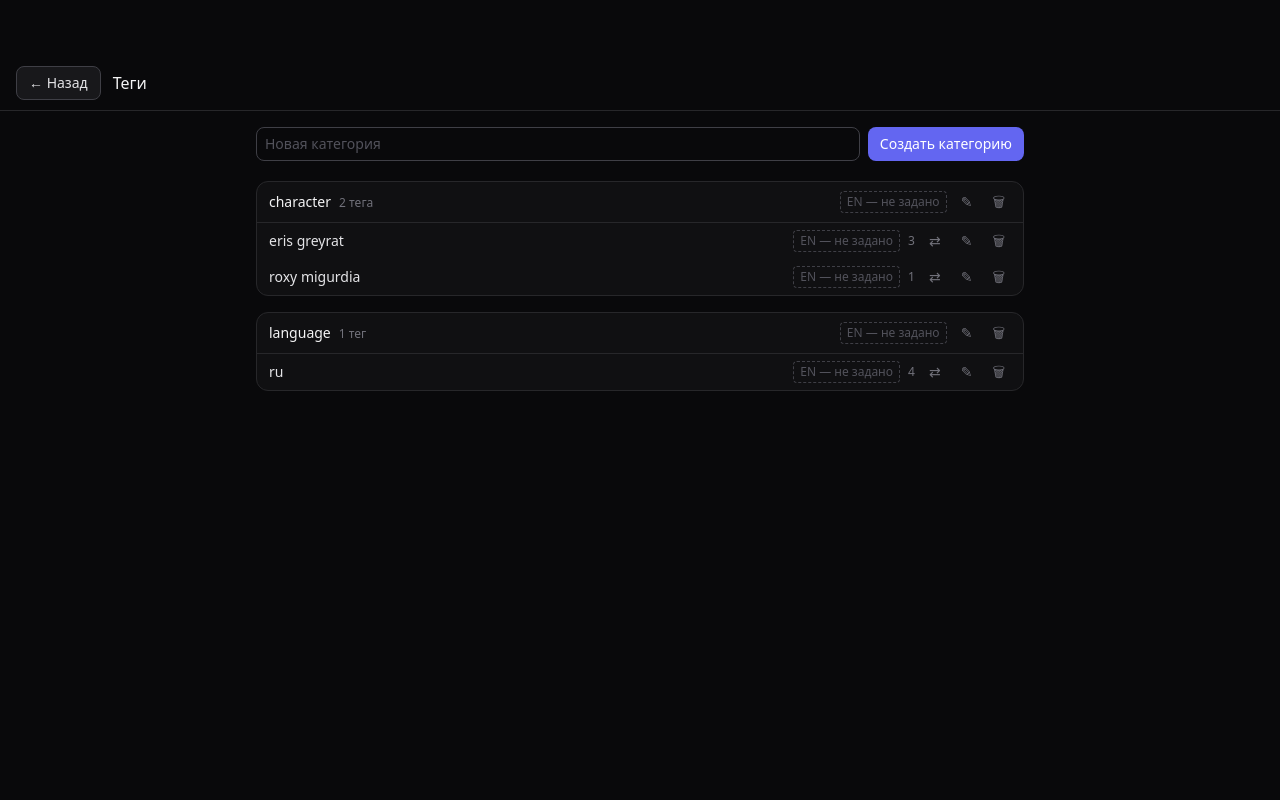
Test case: TagsScreen: категории › переименование: Esc отменяет без запроса, дубль оставляет поле с сообщением
This screenshot has width=1280, height=800.
Expected: the element named "Категория character" is shown, [256,181,1024,296]
Click the button named "Переименовать категорию «character»".
click(966, 202)  # box [955,190,978,214]
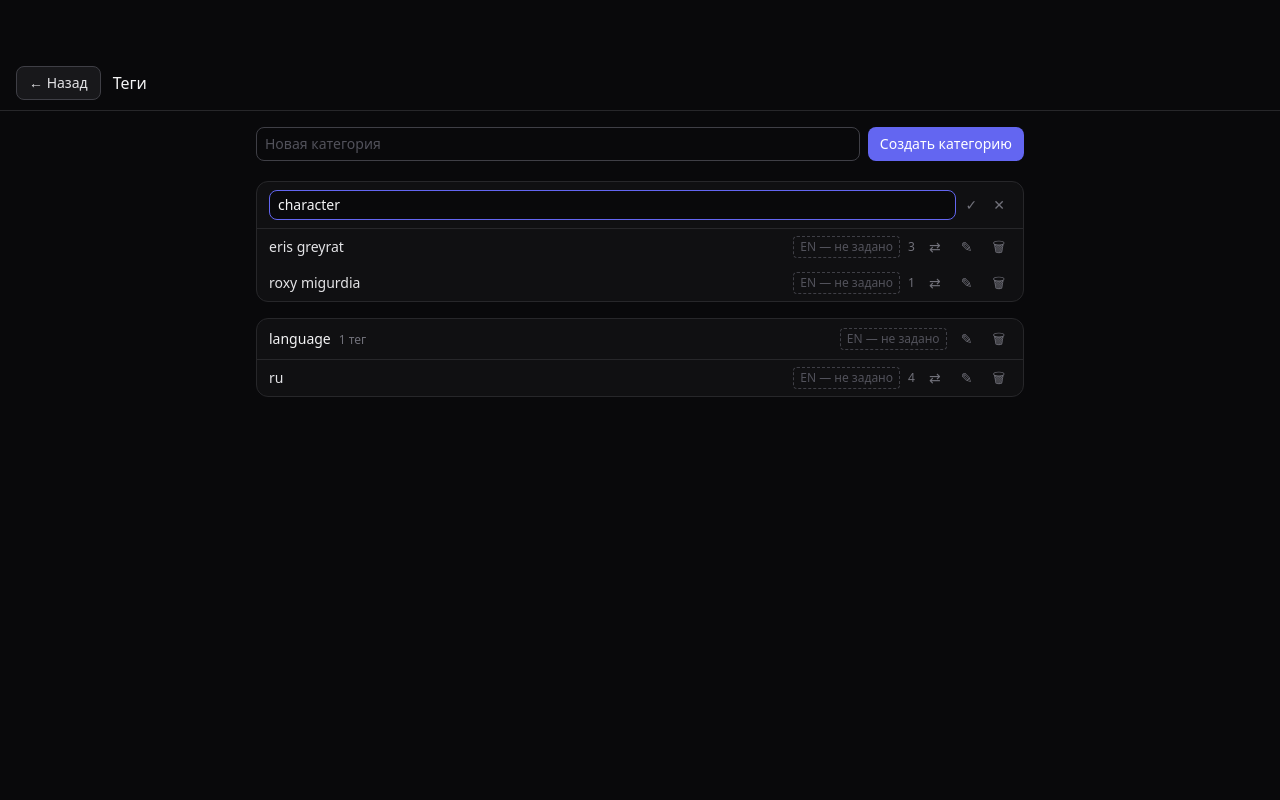
Type "x" into the field named "Новое имя категории".
click(612, 205); type("x")  # box [269,190,956,220]
Then press Escape
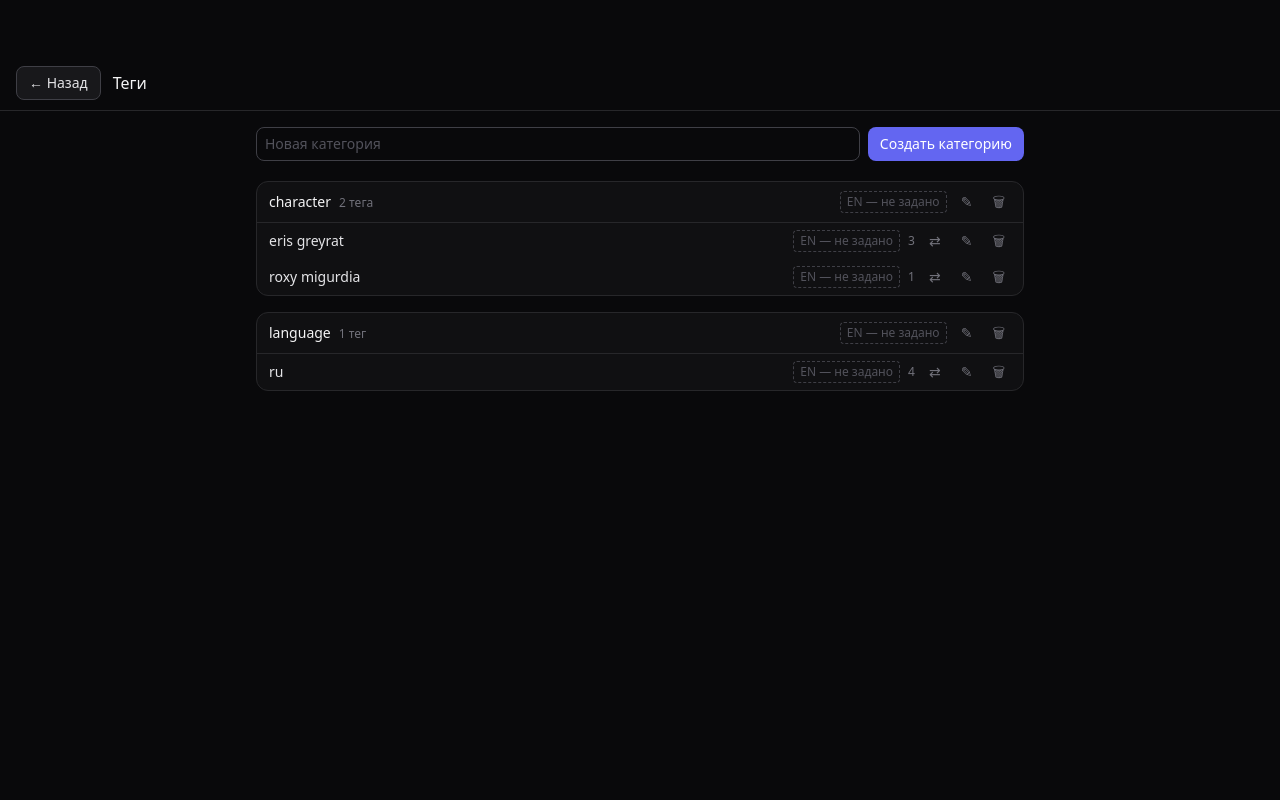
Click the button named "Переименовать категорию «character»".
click(966, 202)  # box [955,190,978,214]
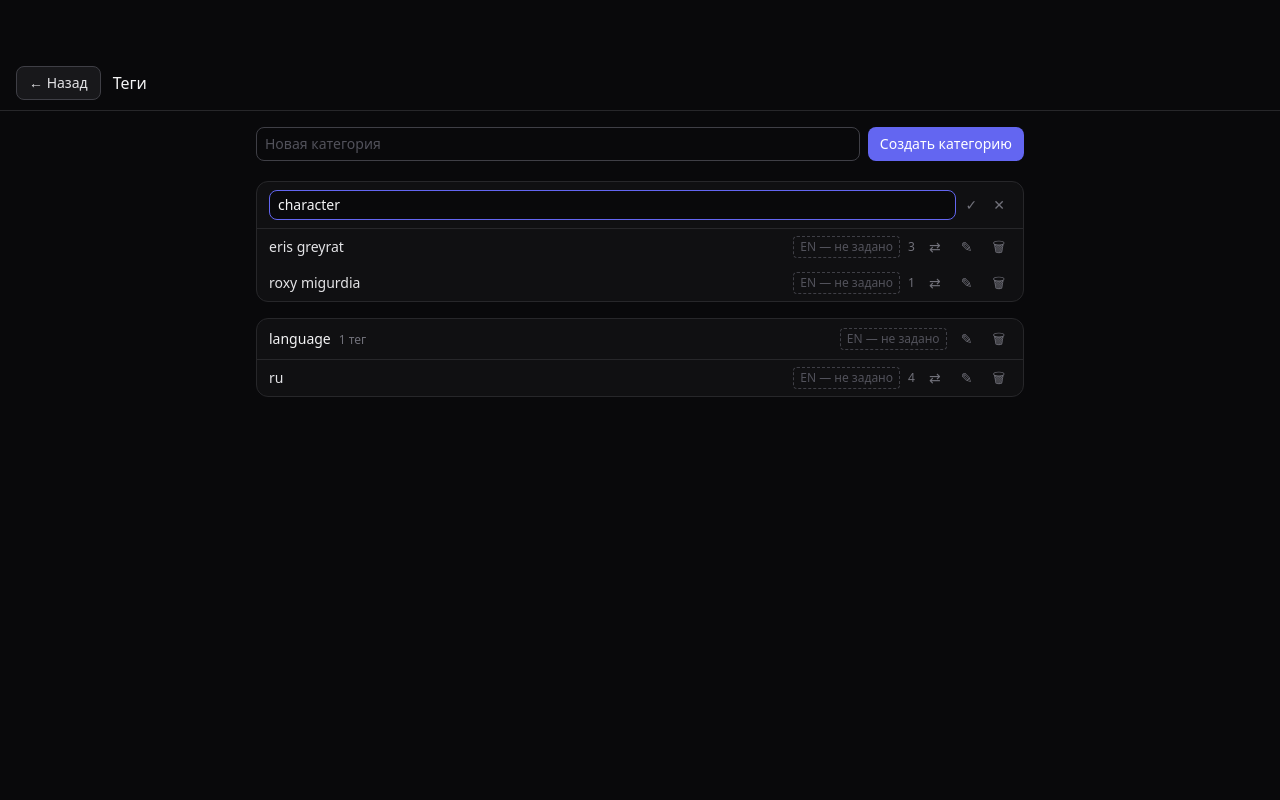
Replace the text in the field named "Новое имя категории" with "language" at (612, 205), box [269,190,956,220]
Then press Enter
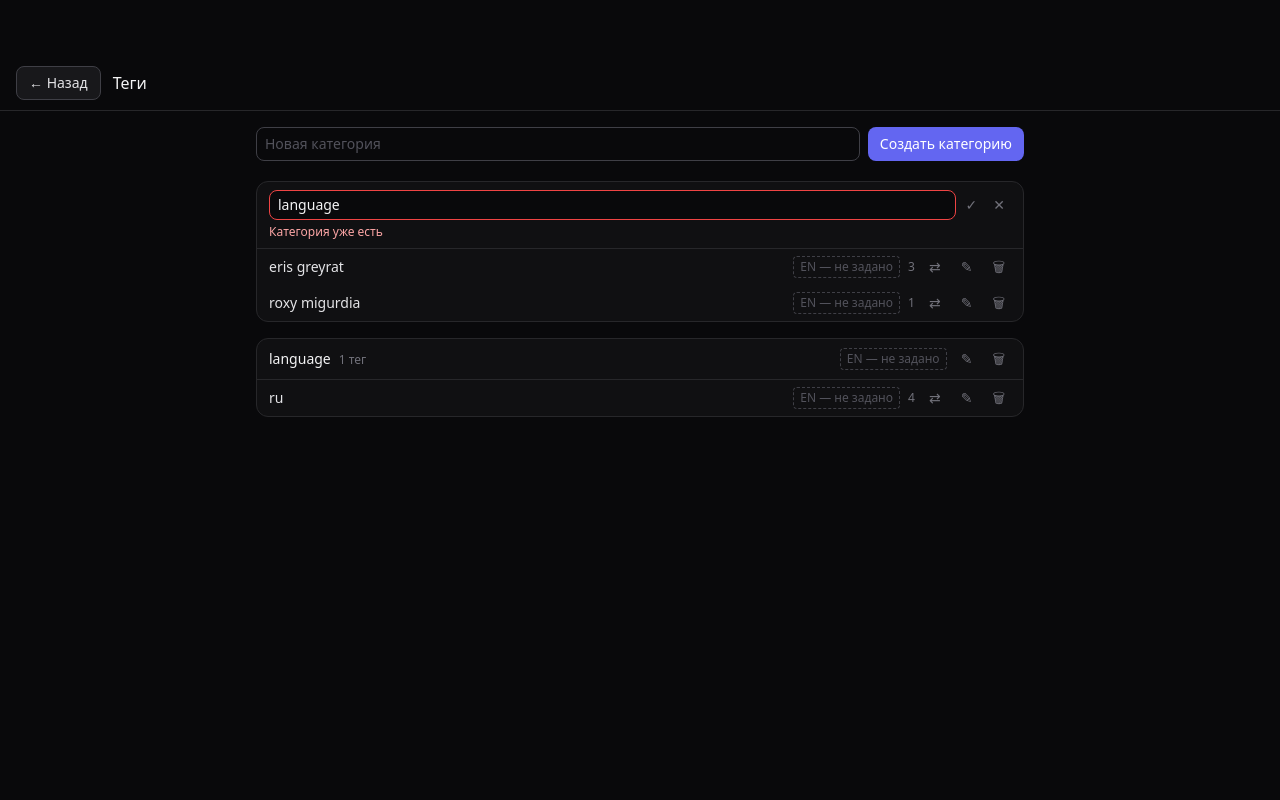
Expected: the message reads "Категория уже есть", [269,223,383,240]
